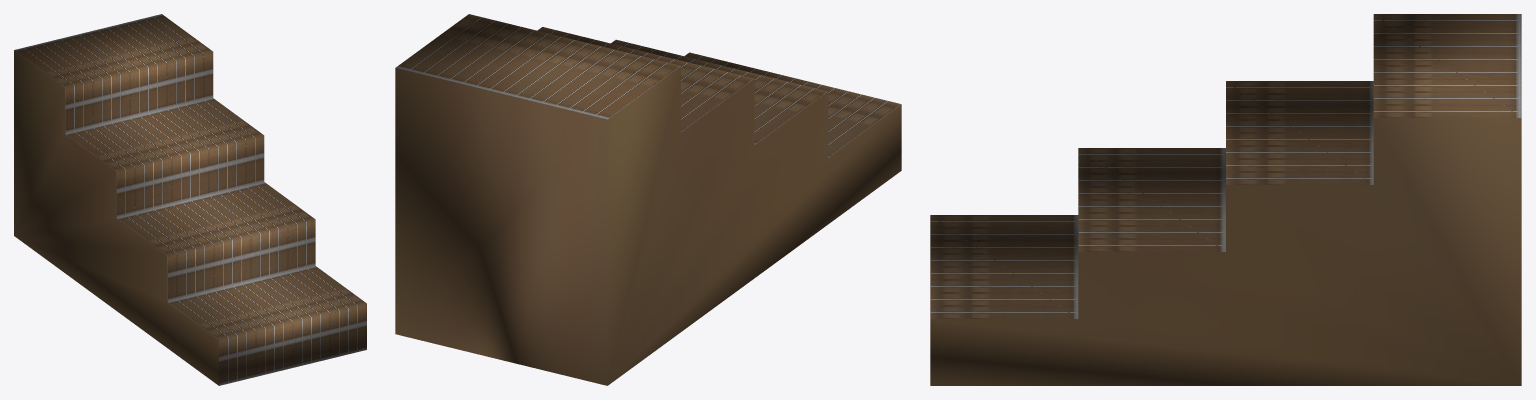
The model's file is set_floor_04_stairs_col.fbx.
3 renders of one model, left to right at view 1: azimuth 30°, elevation 25°; view 2: azimuth 150°, elevation 25°; view 3: azimuth 270°, elevation 25°, orthographic. The views are drawn at different scales.
Visible parts, largest first — view 1: set_floor_04_stairs_col; view 2: set_floor_04_stairs_col; view 3: set_floor_04_stairs_col.
Part boxes in pixels (left/top/right/bottom): set_floor_04_stairs_col: left=14, top=14, right=366, bottom=385; set_floor_04_stairs_col: left=395, top=14, right=901, bottom=385; set_floor_04_stairs_col: left=930, top=14, right=1521, bottom=385.
Bounding box in the file's own units: 50 × 60 × 120.
